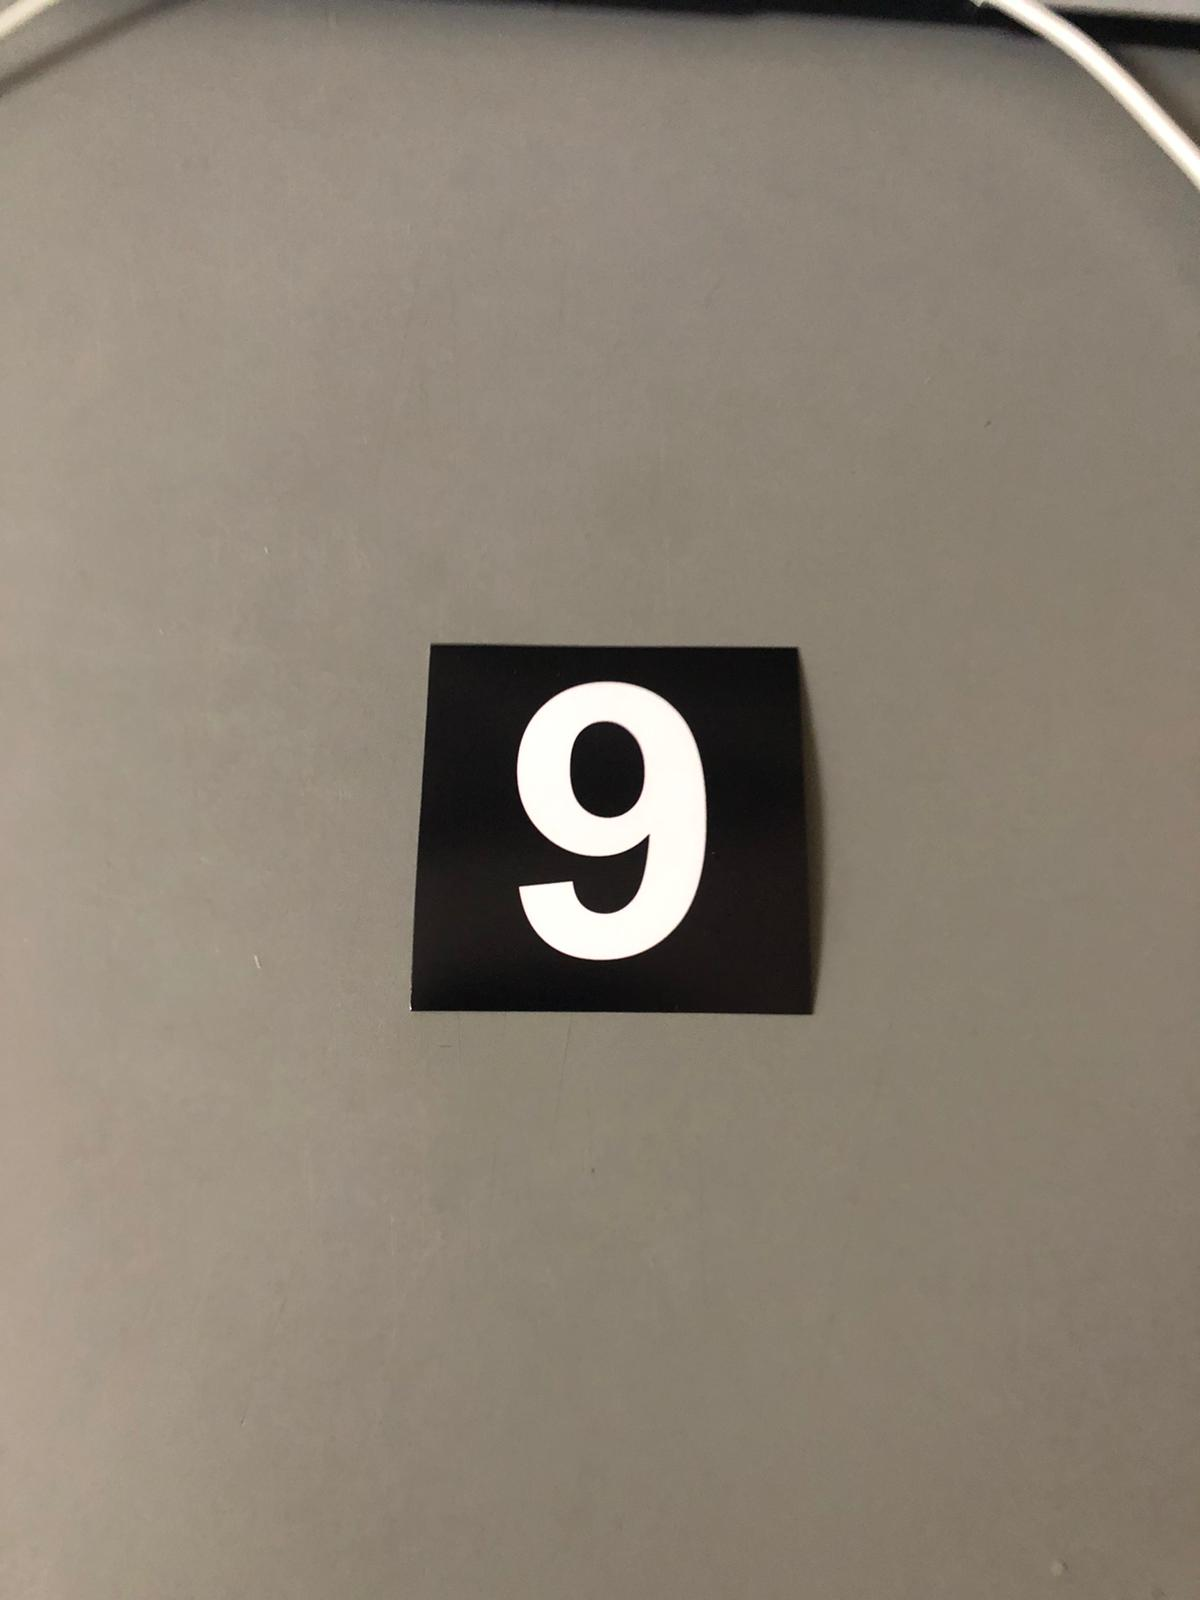Number 9: (417, 656, 795, 1002)
